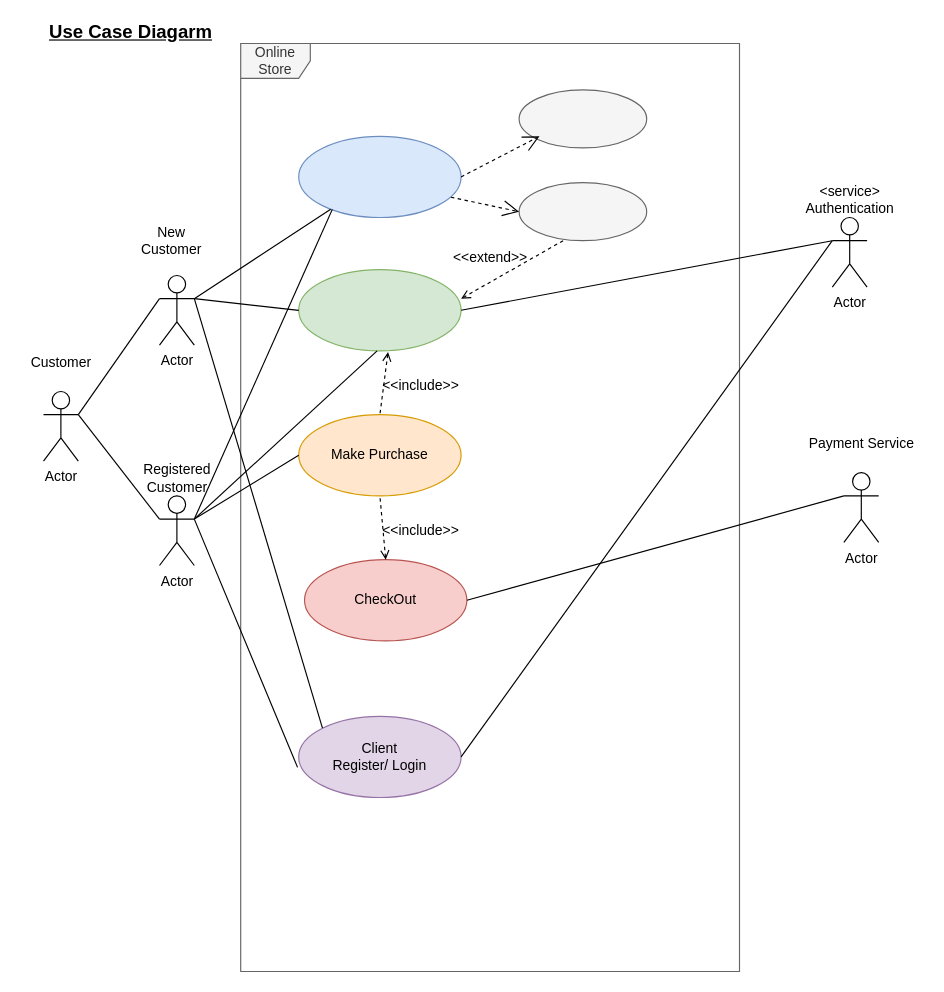
This 944x992 diagram has some shape labels left out. Here are the shapes that lost their labels. From the top down, the centre of each, then its label:
At [582,118]: "Delete item from Cart".
At [379,176]: "Manage Shopping Cart".
At [582,211]: "Add Item in the Cart".
At [379,310]: "View Products".
